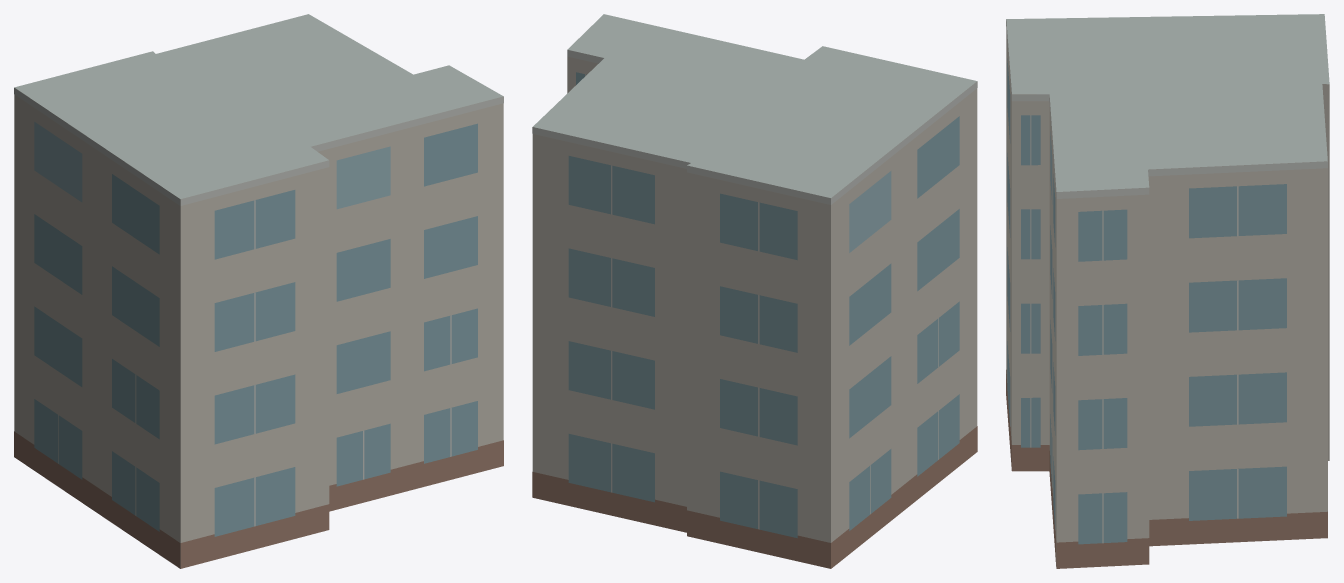
Rendered from survey-upis-32926554.glb.
3 views of the same model, side by side, from view 1: azimuth 30°, elevation 25°; view 2: azimuth 150°, elevation 25°; view 3: azimuth 270°, elevation 25° (orthographic).
Visible parts, largest first — view 1: survey-upis-32926554.tmp; view 2: survey-upis-32926554.tmp; view 3: survey-upis-32926554.tmp.
Part boxes in pixels (x1,y1,x2,y2): survey-upis-32926554.tmp: (14, 14, 503, 568); survey-upis-32926554.tmp: (532, 14, 977, 568); survey-upis-32926554.tmp: (1006, 14, 1329, 568).
Bounding box in the file's own units: 13.34 × 13.15 × 10.24.
